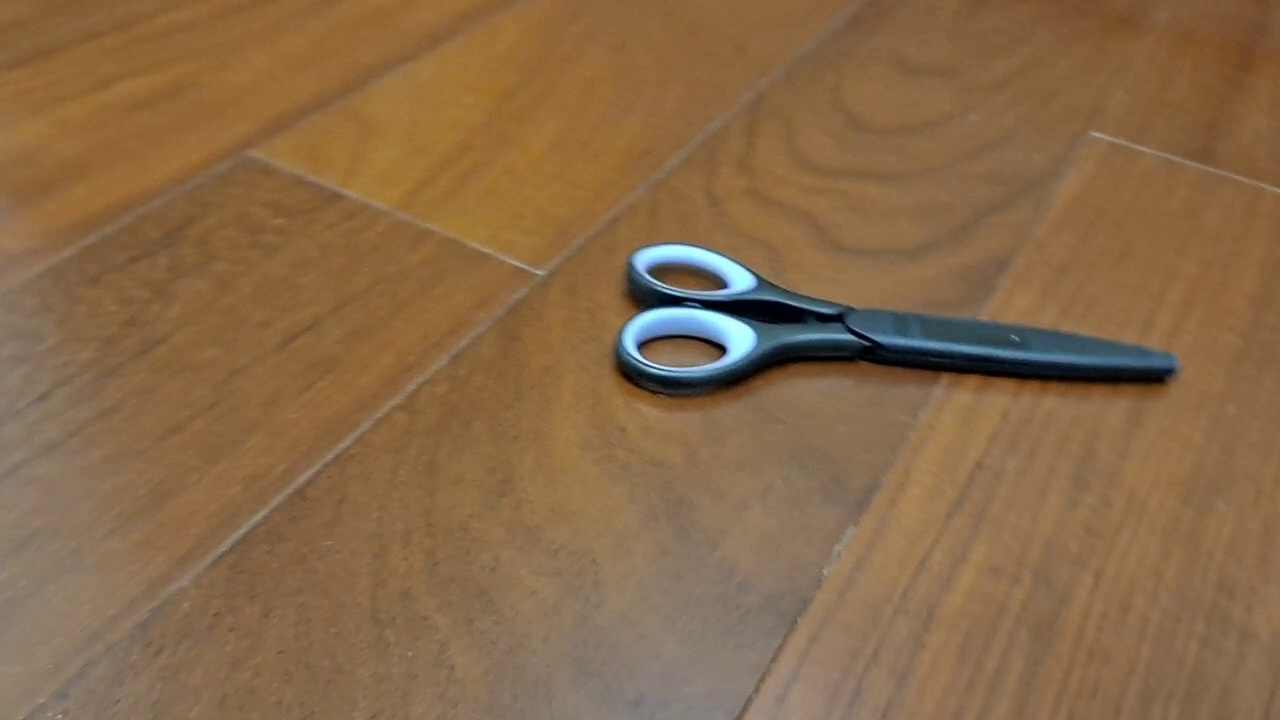scissors: (613, 241, 1183, 399)
